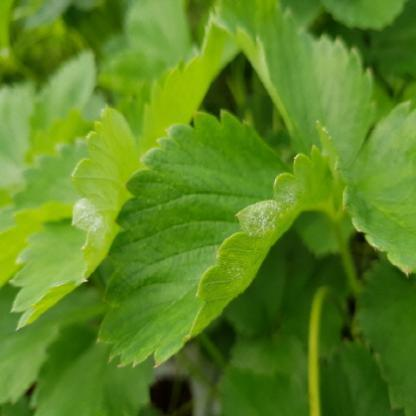Strawberry_Powdery_Mildew_Leaf: (96, 108, 342, 370)
